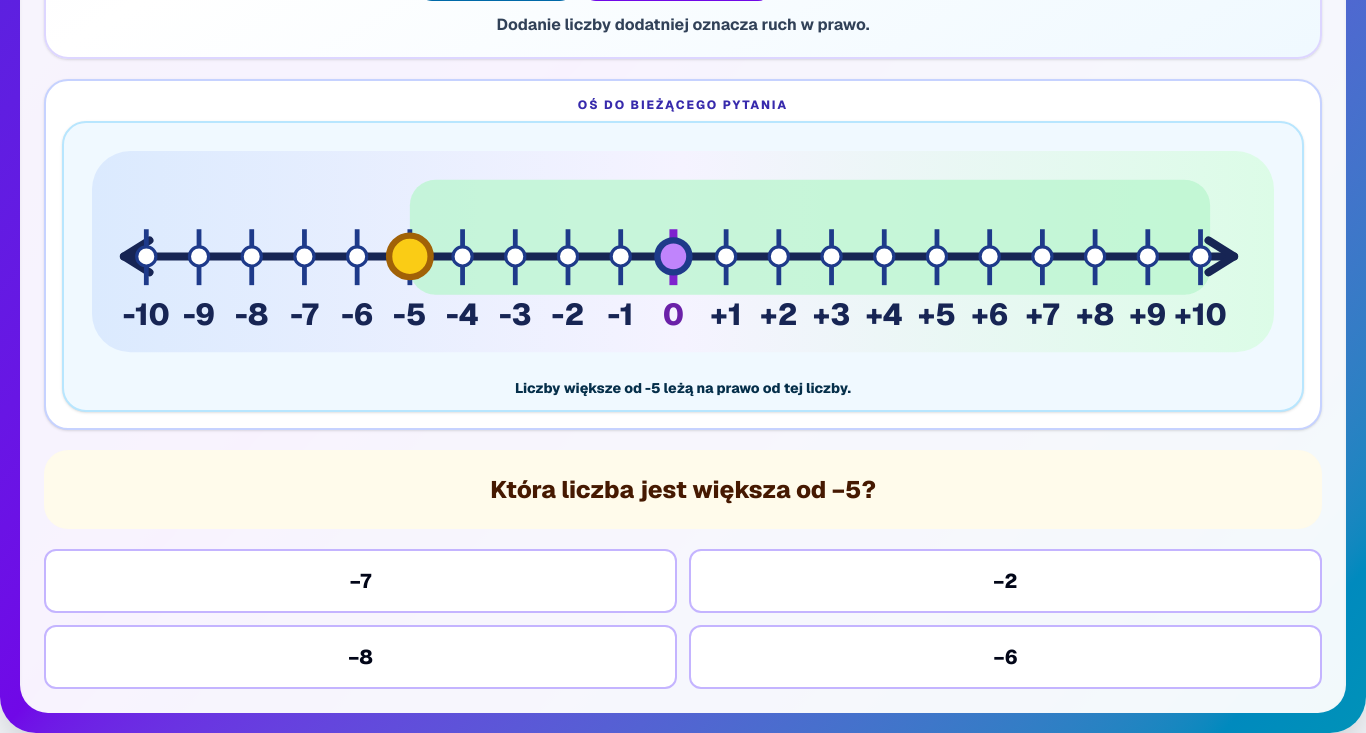
Test: IntegerNumbersLessonLab › pozwala wybrać liczbę mniejszą od zera po przejściu przez poprzednie zadania
(page scrolled)
Click the button "−2".
click(1006, 581)  # box [689,549,1322,613]
Wait 850 ms
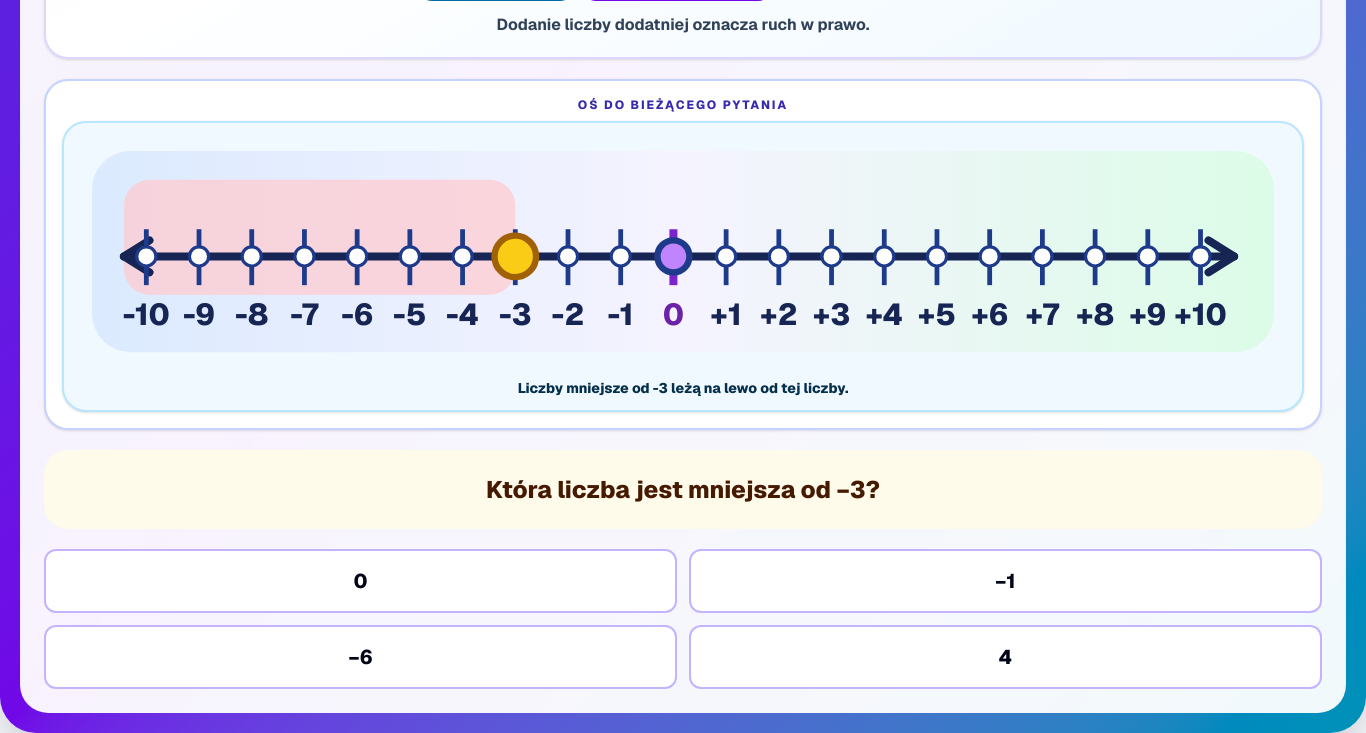
Click the button "−6".
click(360, 657)  # box [44,625,677,689]
Wait 850 ms
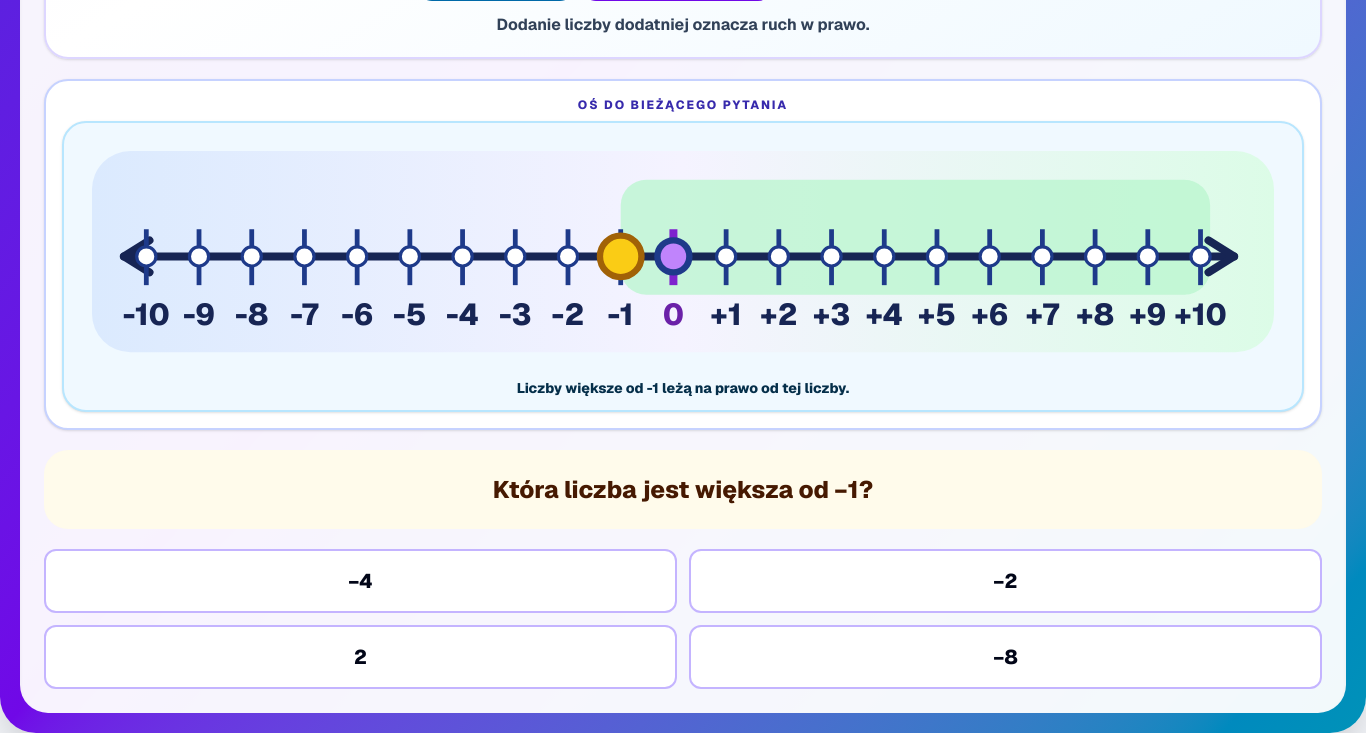
Click the button "2".
click(360, 657)  # box [44,625,677,689]
Wait 850 ms
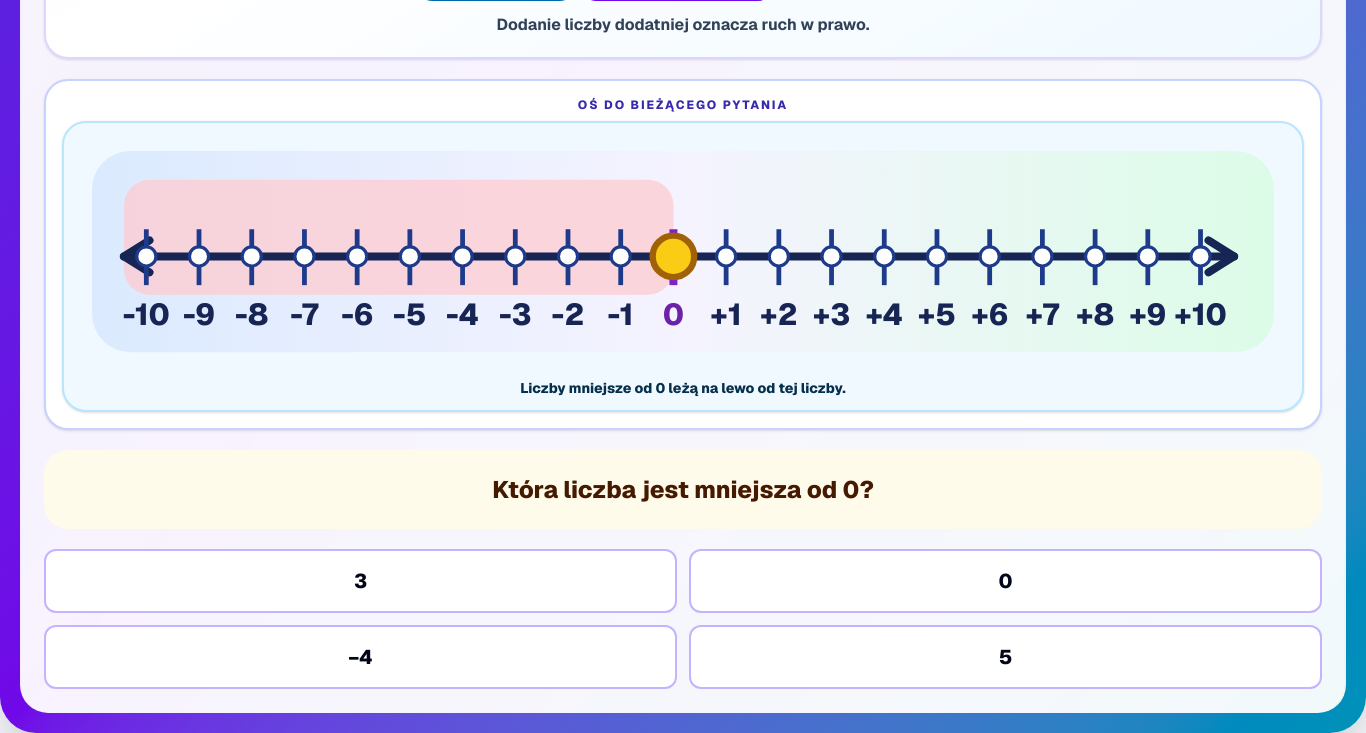
Now the text "Która liczba jest mniejsza od 0?" is shown, box [492,474,874,505]
Click the button "−4".
click(360, 657)  # box [44,625,677,689]
(page scrolled)
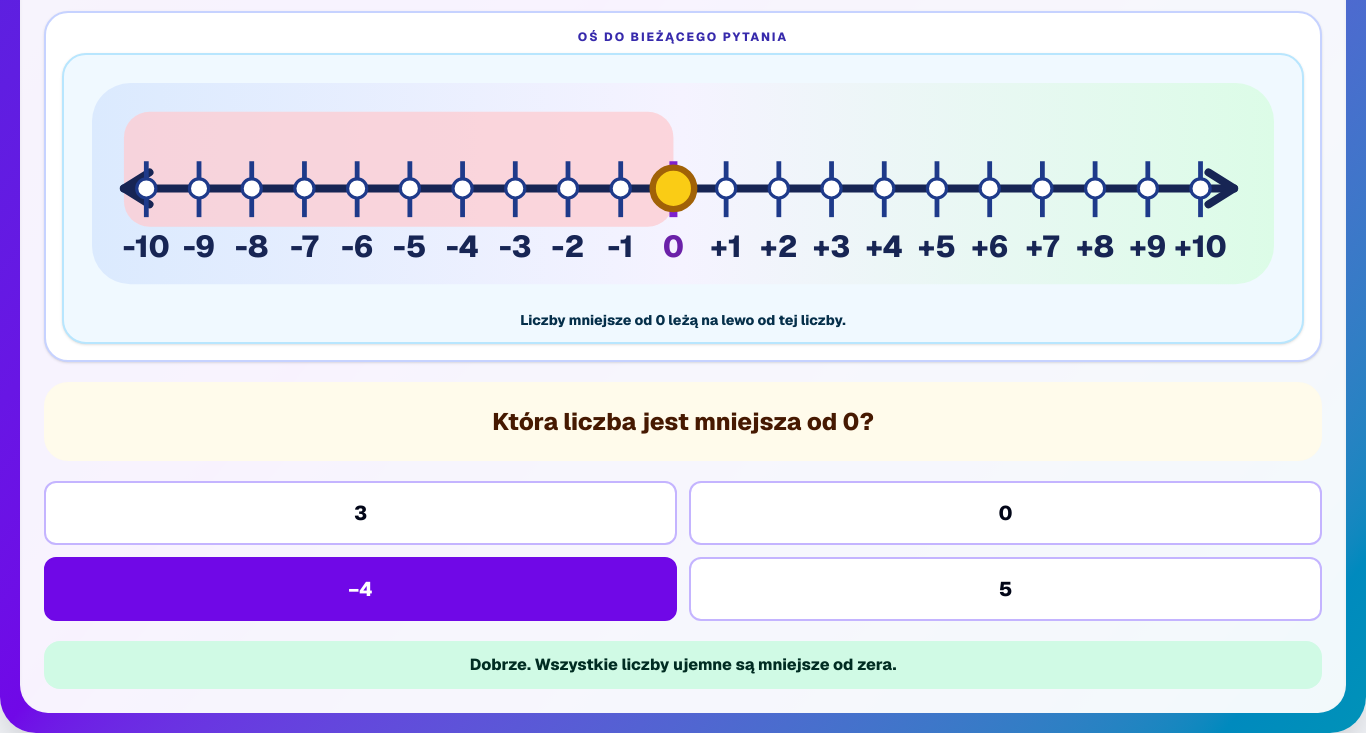
Now the message shows "Wszystkie liczby ujemne", box [470,654,896,675]
